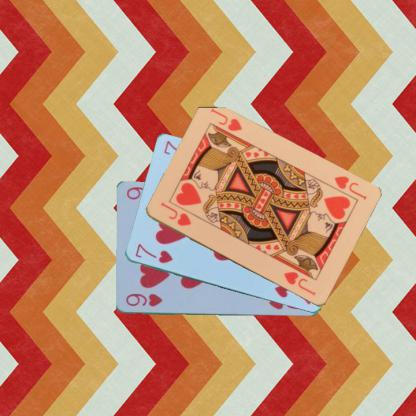7h: (132, 241, 174, 265)
9h: (123, 291, 164, 308)
Jh: (331, 173, 368, 201), (158, 199, 192, 228)
